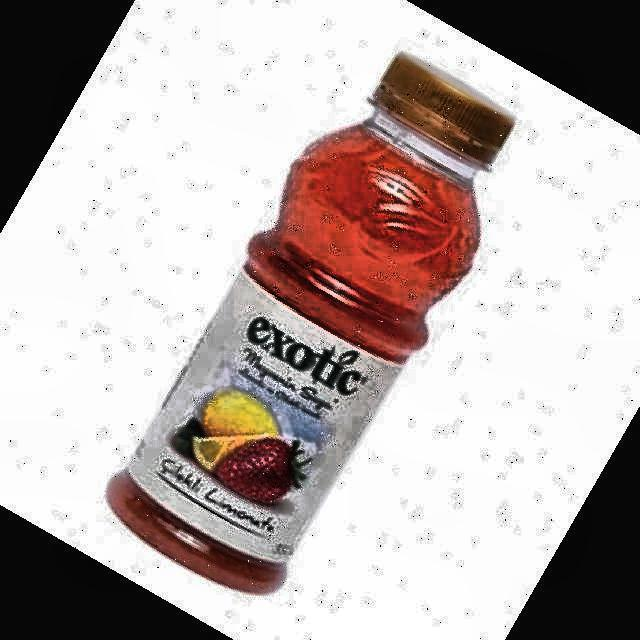plastic: (108, 54, 514, 593)
